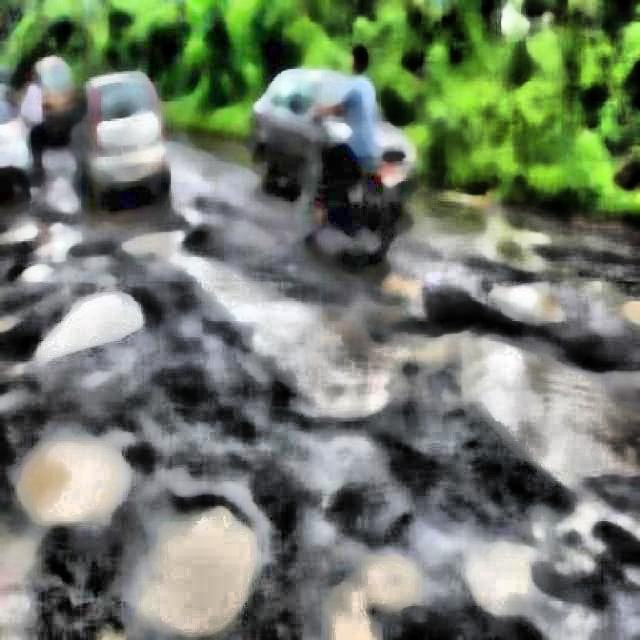buraco: (132, 496, 266, 638), (14, 422, 136, 532), (322, 514, 424, 638), (40, 265, 156, 373)
